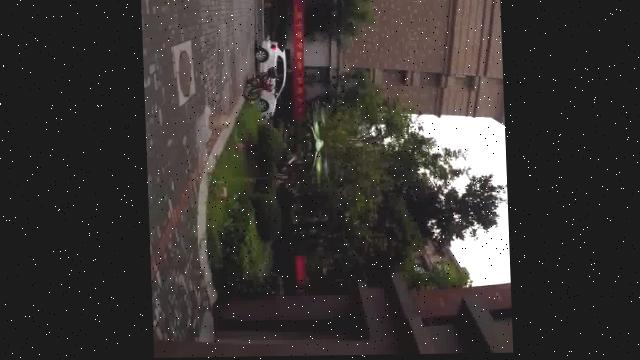drone: (295, 103, 338, 188)
